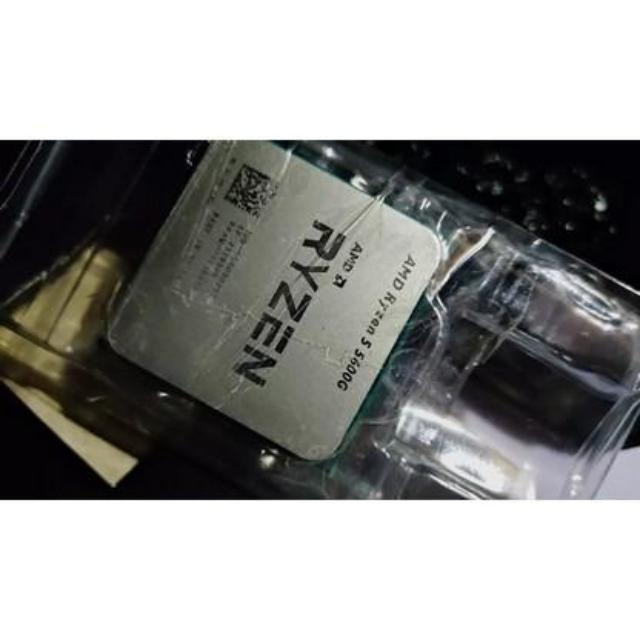CPU: (106, 144, 440, 462)
